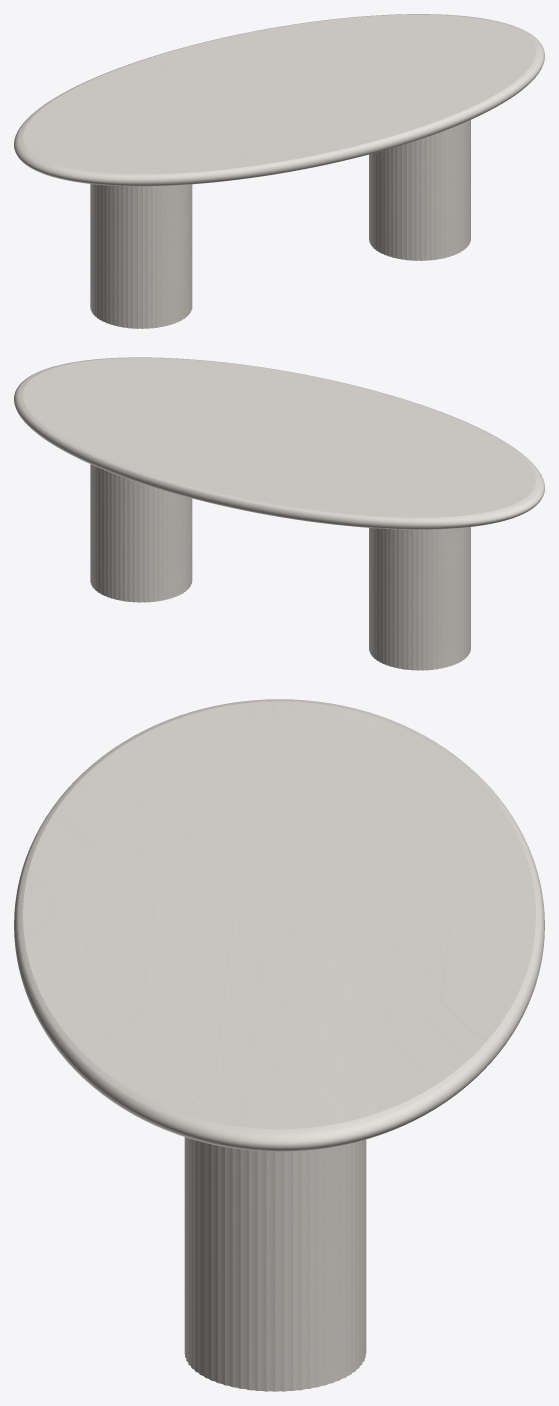
File: pearlwhite_ellips_round_ripplesecond.glb
The picture shows the model from 3 angles, top to bottom: view 1: azimuth 30°, elevation 25°; view 2: azimuth 150°, elevation 25°; view 3: azimuth 270°, elevation 25°; orthographic projection. The views are drawn at different scales.
Visible parts, largest first — view 1: round_ellips, ripplesecond; view 2: round_ellips, ripplesecond; view 3: round_ellips, ripplesecond.
Boxes of the visible parts, <box> form: round_ellips: <box>14,14,544,186</box>; ripplesecond: <box>90,120,470,328</box>; round_ellips: <box>14,357,544,529</box>; ripplesecond: <box>90,464,470,670</box>; round_ellips: <box>14,699,544,1151</box>; ripplesecond: <box>184,1137,366,1391</box>.
Size of the model in its own units: 7.5 by 2.5 by 3.8.
Materials: 1 (1 with a texture image).
